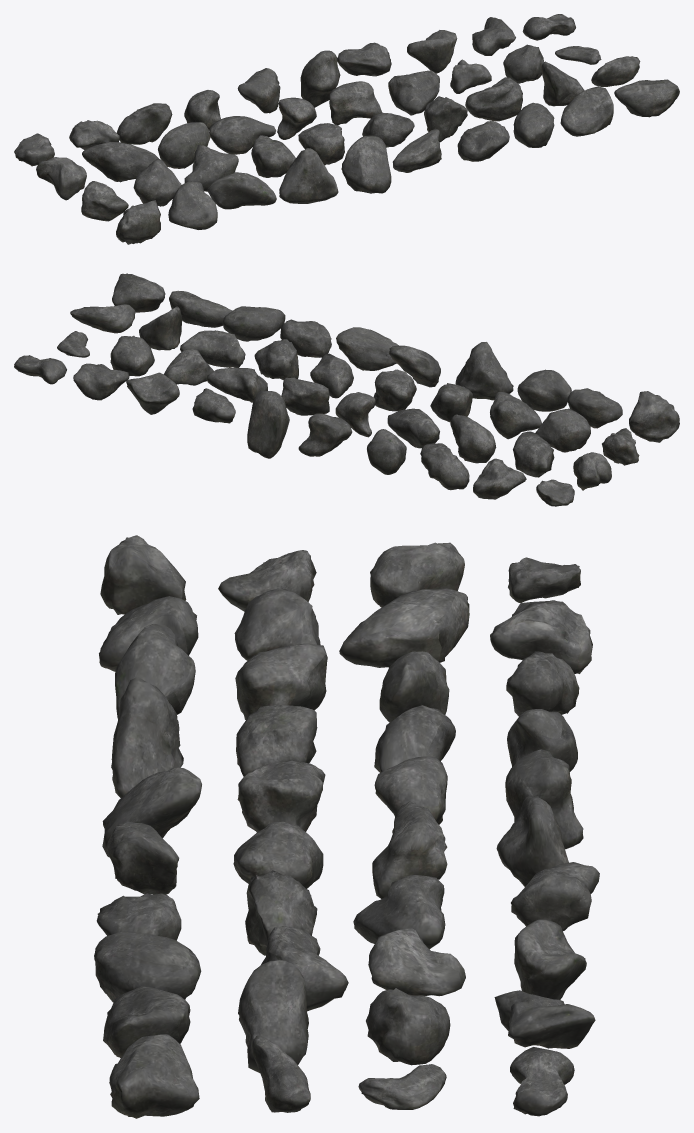
Rendered from 40Rocks.obj.
The picture shows the model from 3 angles, top to bottom: view 1: azimuth 30°, elevation 25°; view 2: azimuth 150°, elevation 25°; view 3: azimuth 270°, elevation 25°; orthographic projection. The views are drawn at different scales.
Visible parts, largest first — view 1: Rock05, Rock04, Rock29, Rock09, Rock03, Rock10, Rock14, Rock02, Rock27, Rock24, Rock25, Rock28 (+28 smaller); view 2: Rock35, Rock04, Rock06, Rock01, Rock03, Rock08, Rock20, Rock14, Rock19, Rock28, Rock38, Rock36 (+28 smaller); view 3: Rock29, Rock04, Rock10, Rock08, Rock13, Rock19, Rock22, Rock39, Rock17, Rock23, Rock01, Rock18 (+28 smaller).
Part boxes in pixels (x1,y1,x2,y2): Rock05: (341, 135, 391, 193); Rock04: (279, 148, 338, 203); Rock29: (82, 142, 158, 182); Rock09: (560, 86, 613, 136); Rock03: (207, 172, 276, 209); Rock10: (614, 79, 679, 117); Rock14: (465, 77, 522, 121); Rock02: (168, 181, 217, 229); Rock27: (209, 116, 276, 154); Rock24: (388, 70, 439, 115); Rock25: (329, 81, 382, 125); Rock28: (158, 122, 210, 168); Rock35: (247, 390, 289, 458); Rock04: (455, 342, 513, 400); Rock06: (336, 327, 398, 370); Rock01: (629, 391, 679, 442); Rock03: (517, 369, 571, 411); Rock08: (222, 306, 285, 341); Rock20: (535, 408, 590, 452); Rock14: (180, 330, 245, 367); Rock19: (490, 392, 541, 439); Rock28: (450, 414, 496, 463); Rock38: (420, 443, 469, 490); Rock36: (298, 413, 352, 456); Rock29: (339, 588, 469, 667); Rock04: (111, 677, 183, 797); Rock10: (109, 1034, 199, 1118); Rock08: (94, 930, 201, 1002); Rock13: (238, 960, 308, 1072); Rock19: (235, 643, 327, 719); Rock22: (366, 988, 450, 1065); Rock39: (490, 600, 592, 673); Rock17: (237, 759, 325, 832); Rock23: (368, 928, 465, 996); Rock01: (100, 535, 186, 614); Rock18: (236, 705, 317, 776).
Bounding box in the file's own units: 9.85 × 1.07 × 3.82.
